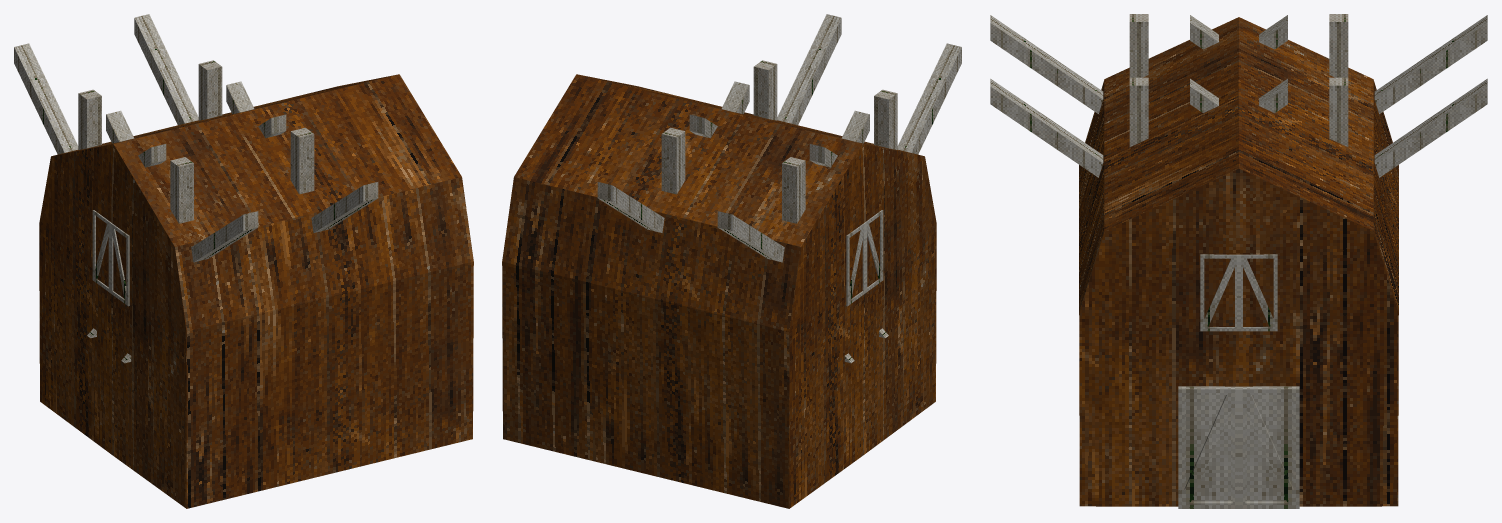
File: BarnInterior.glb
3 views of the same model, side by side, from view 1: azimuth 30°, elevation 25°; view 2: azimuth 150°, elevation 25°; view 3: azimuth 270°, elevation 25° (orthographic). The views are drawn at different scales.
Visible parts, largest first — view 1: Barn Interior; view 2: Barn Interior; view 3: Barn Interior.
Boxes of the visible parts, x1=… form: Barn Interior: x1=14, y1=14, x2=473, y2=508; Barn Interior: x1=502, y1=14, x2=961, y2=508; Barn Interior: x1=990, y1=14, x2=1487, y2=508.
Bounding box in the file's own units: 10.8 × 11.05 × 14.27.
9 materials, 9 textured.
